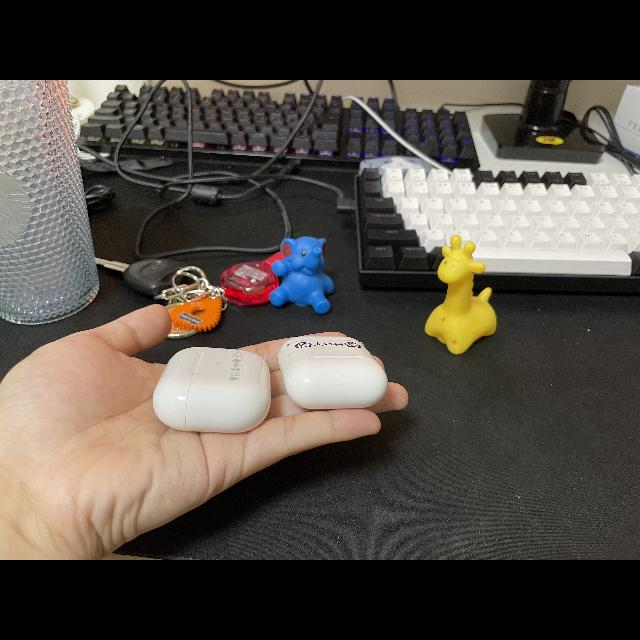airpod2: (275, 320, 397, 418)
airpod3: (152, 338, 274, 436)
